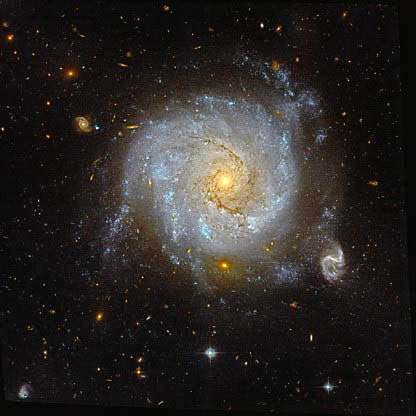NGC 1309: (58, 43, 354, 338)
